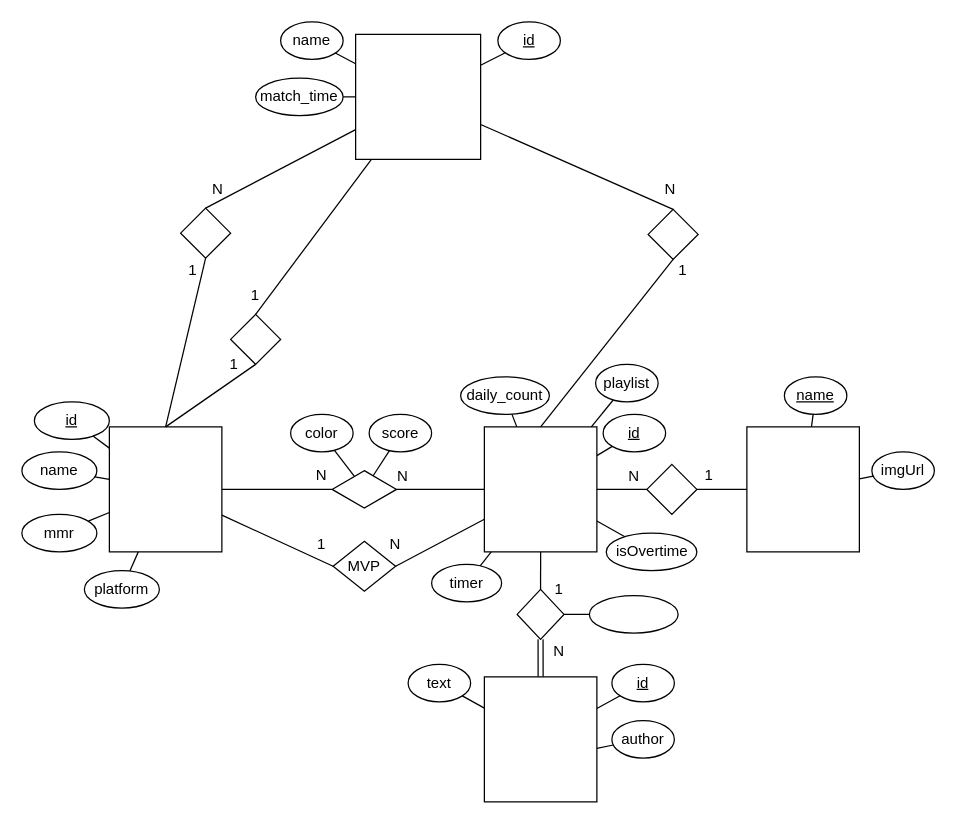
Image size: 956x824. Some labels were removed from this diagram. The shapes that lost their labels are listed below. From the top down, each one's centre as x and y in pixels, then its label:
point (417, 96): Player_Event
point (165, 489): Player
point (363, 488): Team
point (540, 489): Match
point (802, 489): Map
point (633, 613): timestamp
point (540, 739): Comment
